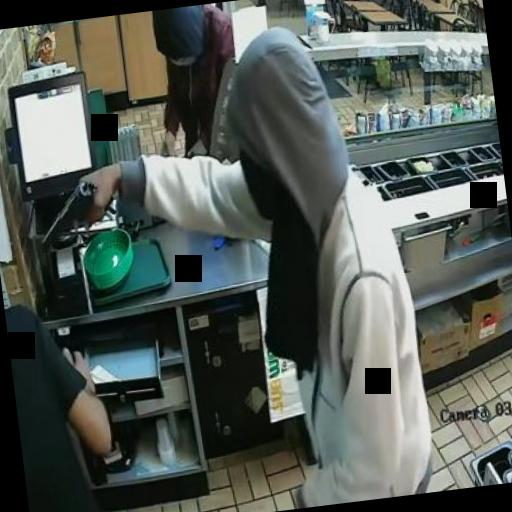Handgun: (30, 171, 114, 250)
